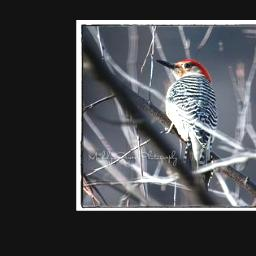Woodpecker: (152, 53, 221, 170)
